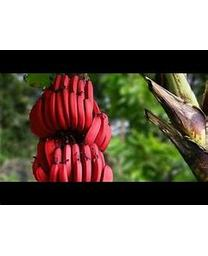banana: (27, 74, 117, 182)
